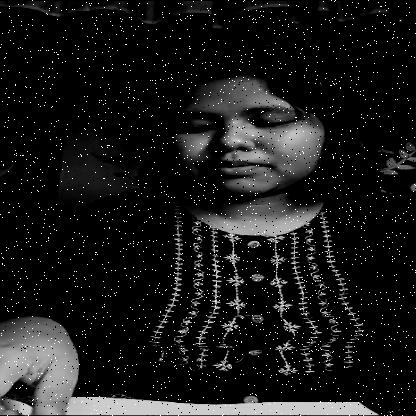Normal: (139, 57, 349, 194)
